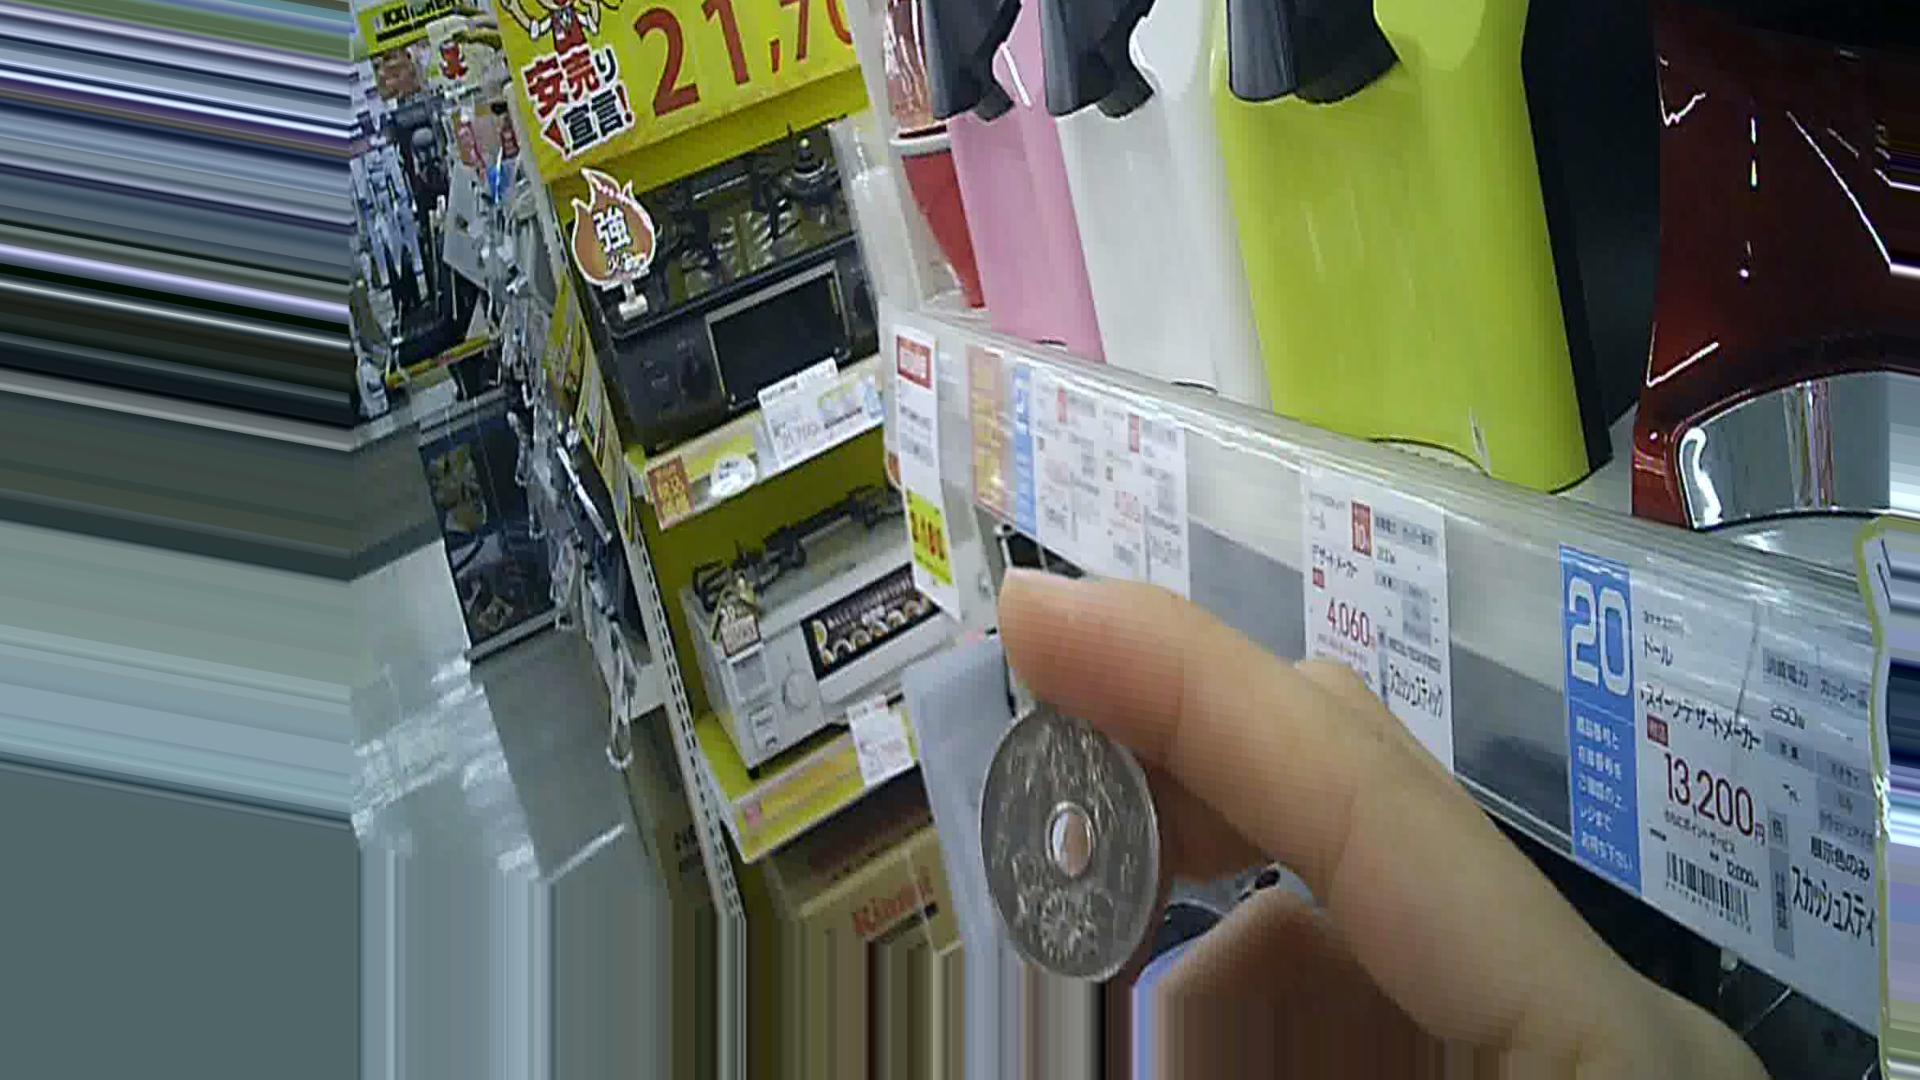50 Yen: (956, 708, 1160, 1000)
